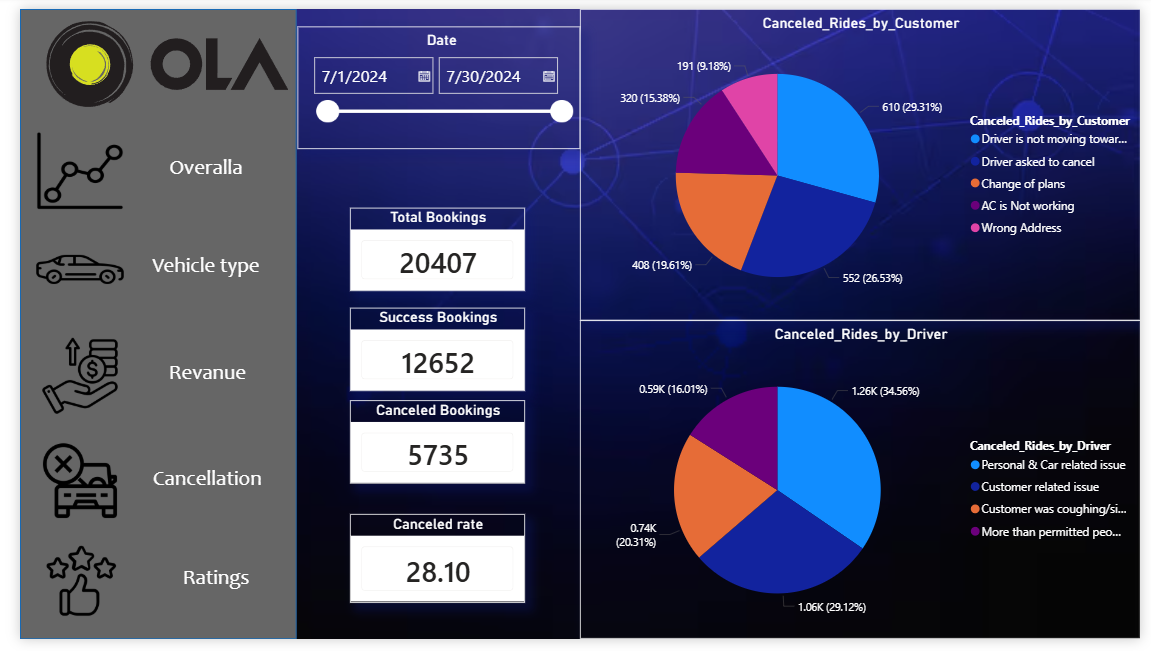

The page's visual inventory and layout, read from the dashboard file:
{"tool":"powerbi","page":{"name":"cancellation","canvas":[1280,720],"ordinal":3},"visuals":[{"type":"shape","box":[0,0,316.1,720.2],"z":0},{"type":"image","box":[10,10,317,107],"z":1000},{"type":"image","box":[18.1,139.9,100.1,89.3],"z":2000},{"type":"textbox","box":[130.3,160.5,165.3,49.5],"z":3000},{"type":"image","box":[18.1,252.1,100.1,89.3],"z":4000},{"type":"image","box":[18.1,374,100.1,89.3],"z":5000},{"type":"image","box":[18.1,494.6,100.1,89.3],"z":6000},{"type":"image","box":[19.3,608,100.1,89.3],"z":7000},{"type":"textbox","box":[130.3,272.7,165.3,49.5],"z":8000},{"type":"textbox","box":[131.5,394.5,165.3,49.5],"z":9000},{"type":"textbox","box":[131.5,515.2,165.3,49.5],"z":10000},{"type":"textbox","box":[141.2,628.6,165.3,49.5],"z":11000},{"type":"actionButton","box":[0,252.5,317,102.9],"z":12000},{"type":"actionButton","box":[0,133.1,317,102.9],"z":13000},{"type":"actionButton","box":[0,360.9,317,102.9],"z":14000},{"type":"actionButton","box":[0,487.1,317,102.9],"z":15000},{"type":"actionButton","box":[0,601,317,102.9],"z":16000},{"type":"pieChart","title":" Canceled_Rides_by_Customer","fields":{"Category":["Sheet1.Canceled_Rides_by_Customer"],"Y":["CountNonNull(Sheet1.Incomplete_Rides_Reason)"]},"box":[639.4,0,640.9,355.9],"z":17000},{"type":"pieChart","title":" Canceled_Rides_by_Driver","fields":{"Category":["Sheet1.Canceled_Rides_by_Driver"],"Y":["CountNonNull(Sheet1.Incomplete_Rides_Reason)"]},"box":[639.4,355.9,640.9,363.6],"z":18000},{"type":"slicer","title":"Date","fields":{"Values":["Sheet1.Date"]},"box":[317.4,20,323.5,140.2],"z":19000},{"type":"cardVisual","title":"Total Bookings","fields":{"Data":["CountNonNull(Sheet1.Booking_ID)"]},"box":[377.5,226.5,200.3,95.5],"z":20000},{"type":"cardVisual","title":"Success Bookings","fields":{"Data":["CountNonNull(Sheet1.Booking_ID)"]},"box":[377.5,342,200.3,95.5],"z":21000},{"type":"cardVisual","title":"Canceled Bookings ","fields":{"Data":["CountNonNull(Sheet1.Booking_ID)"]},"box":[377.5,446.8,200.3,95.5],"z":22000},{"type":"cardVisual","title":"Canceled rate ","fields":{"Data":["Sheet1.Cancelpercentage"]},"box":[377.5,577.8,200.3,101.7],"z":23000}]}

Visuals, with their boxes in screenshot pixels (x1, y1, x2, y2), scaled from the page's 1280x720 canvas onto the 1151x651 screenshot:
shape: x1=0 y1=0 x2=284 y2=650
image: x1=9 y1=9 x2=294 y2=106
image: x1=16 y1=126 x2=106 y2=207
textbox: x1=117 y1=145 x2=266 y2=190
image: x1=16 y1=228 x2=106 y2=309
image: x1=16 y1=338 x2=106 y2=419
image: x1=16 y1=447 x2=106 y2=528
image: x1=17 y1=550 x2=107 y2=630
textbox: x1=117 y1=247 x2=266 y2=291
textbox: x1=118 y1=357 x2=267 y2=401
textbox: x1=118 y1=466 x2=267 y2=511
textbox: x1=127 y1=568 x2=276 y2=613
actionButton: x1=0 y1=228 x2=285 y2=321
actionButton: x1=0 y1=120 x2=285 y2=213
actionButton: x1=0 y1=326 x2=285 y2=419
actionButton: x1=0 y1=440 x2=285 y2=533
actionButton: x1=0 y1=543 x2=285 y2=636
" Canceled_Rides_by_Customer" pieChart: x1=575 y1=0 x2=1150 y2=322
" Canceled_Rides_by_Driver" pieChart: x1=575 y1=322 x2=1150 y2=650
"Date" slicer: x1=285 y1=18 x2=576 y2=145
"Total Bookings" cardVisual: x1=339 y1=205 x2=520 y2=291
"Success Bookings" cardVisual: x1=339 y1=309 x2=520 y2=396
"Canceled Bookings " cardVisual: x1=339 y1=404 x2=520 y2=490
"Canceled rate " cardVisual: x1=339 y1=522 x2=520 y2=614
